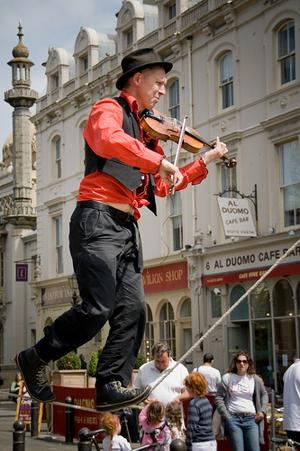person: (15, 46, 228, 414)
